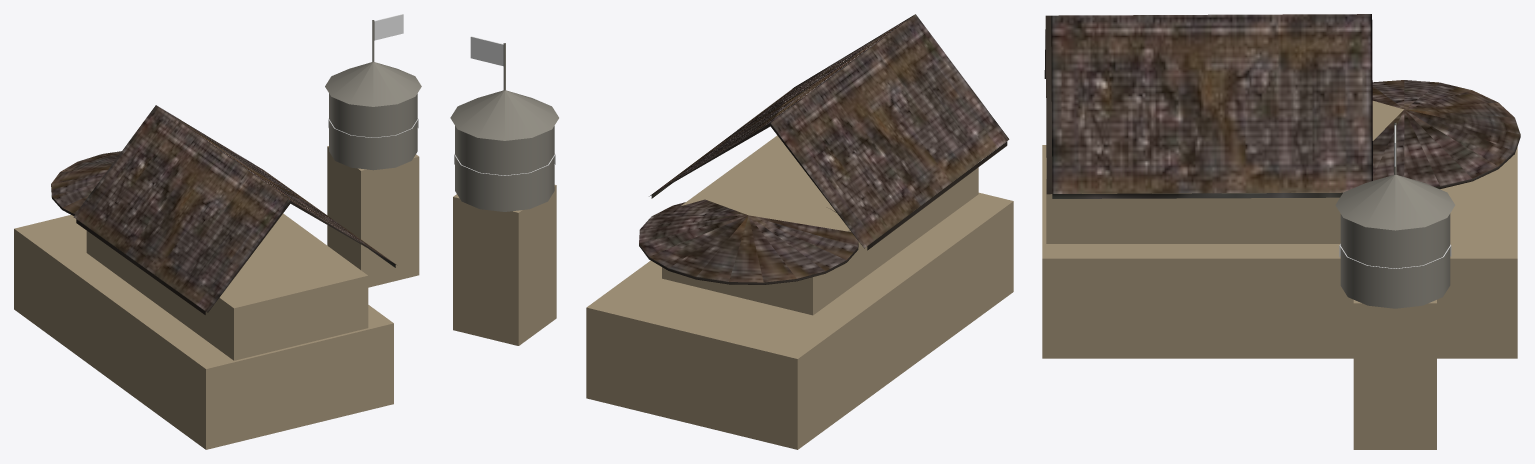
3 renders of one model, left to right at view 1: azimuth 30°, elevation 25°; view 2: azimuth 150°, elevation 25°; view 3: azimuth 270°, elevation 25°, orthographic. The views are drawn at different scales.
Visible parts, largest first — view 1: dweller_building_hq; view 2: dweller_building_hq; view 3: dweller_building_hq.
Part boxes in pixels (bbox=[...]): dweller_building_hq: bbox=[14, 14, 421, 449]; dweller_building_hq: bbox=[450, 14, 1013, 449]; dweller_building_hq: bbox=[1042, 14, 1520, 449].
Bounding box in the file's own units: 19.27 × 13.1 × 18.32.
Materials: 4 (1 with a texture image).
